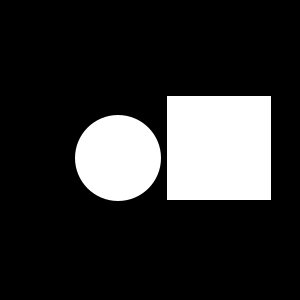circle: (167, 96, 271, 200)
rectangle: (75, 115, 161, 201)
